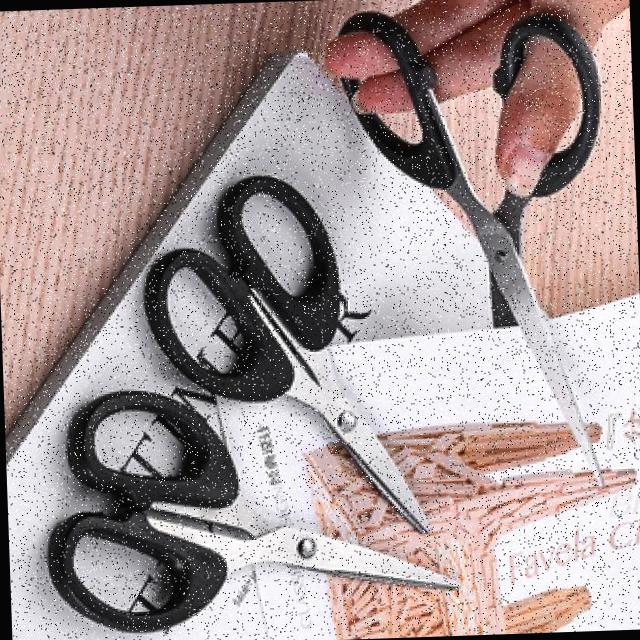scissors: (302, 2, 640, 564), (89, 129, 460, 549), (24, 351, 482, 639)
